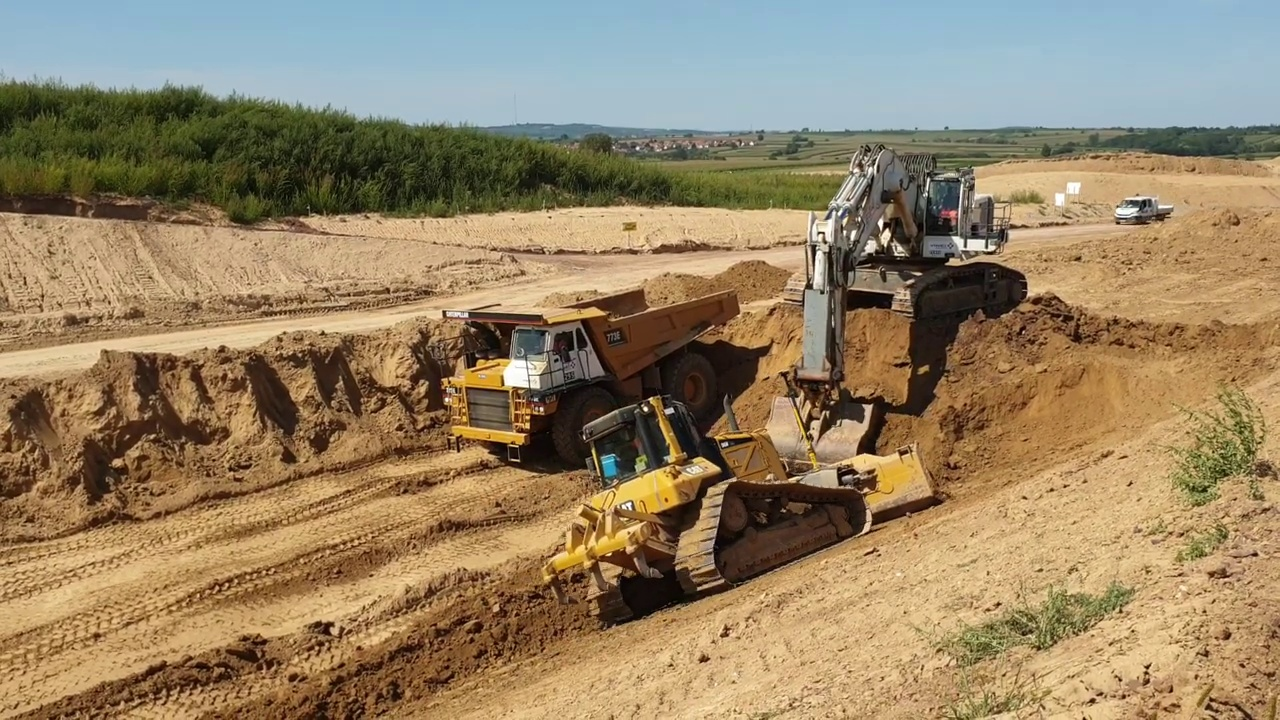bulldozer: (533, 367, 945, 631)
excavator: (759, 133, 1033, 495)
truck: (436, 283, 747, 475), (1109, 190, 1176, 231)
